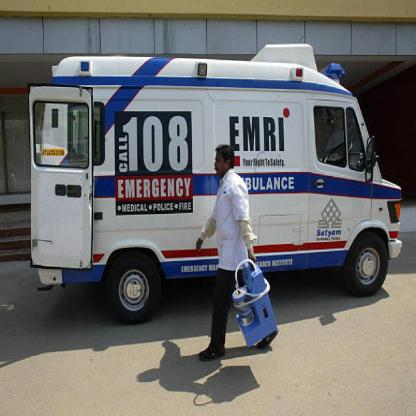priority: (45, 52, 349, 96), (106, 107, 198, 227), (232, 98, 300, 188), (326, 142, 376, 174)
